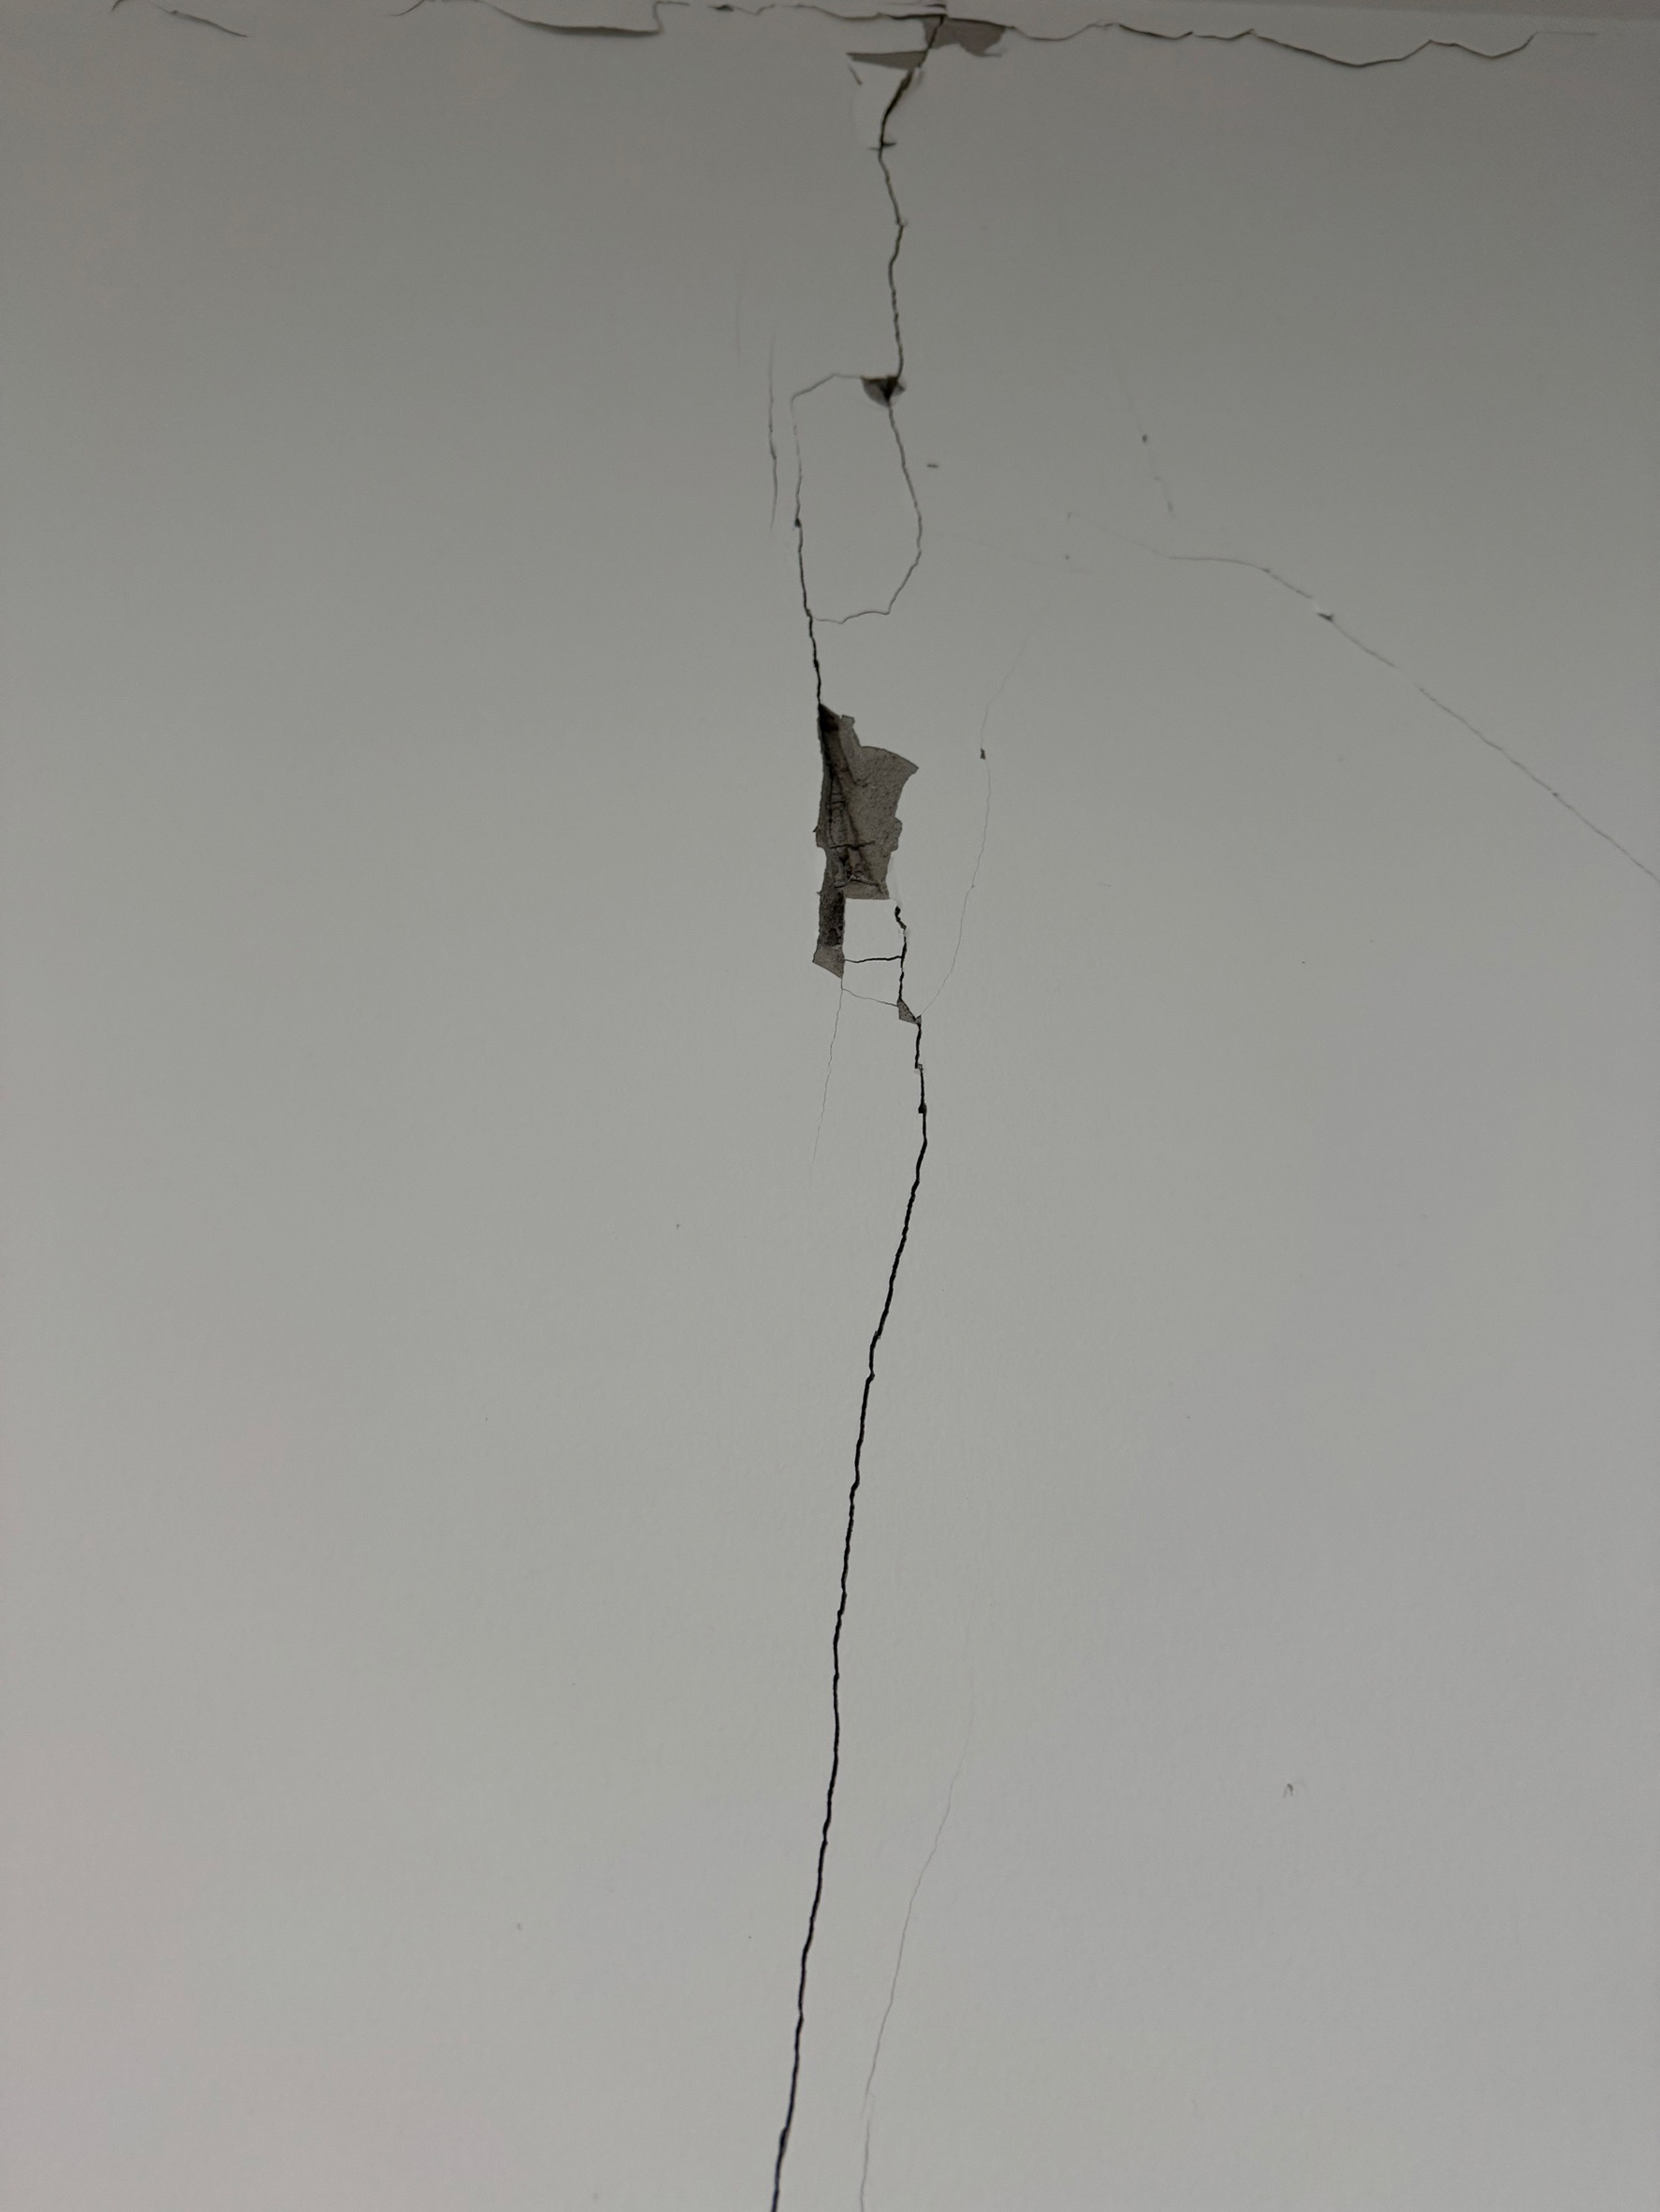Medium: (629, 99, 1029, 2146)
